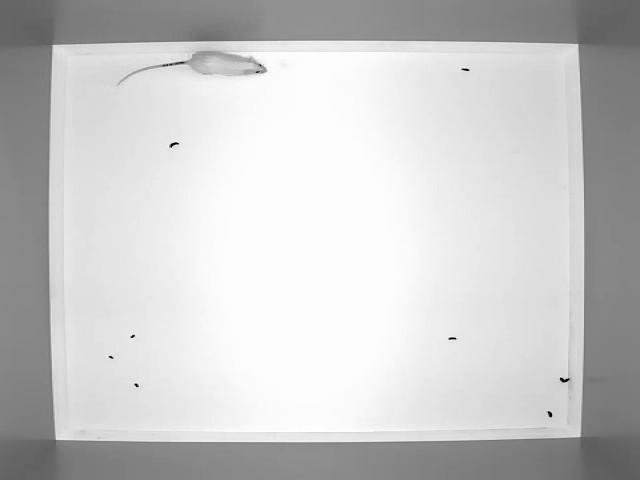Tikus: (115, 49, 268, 87)
